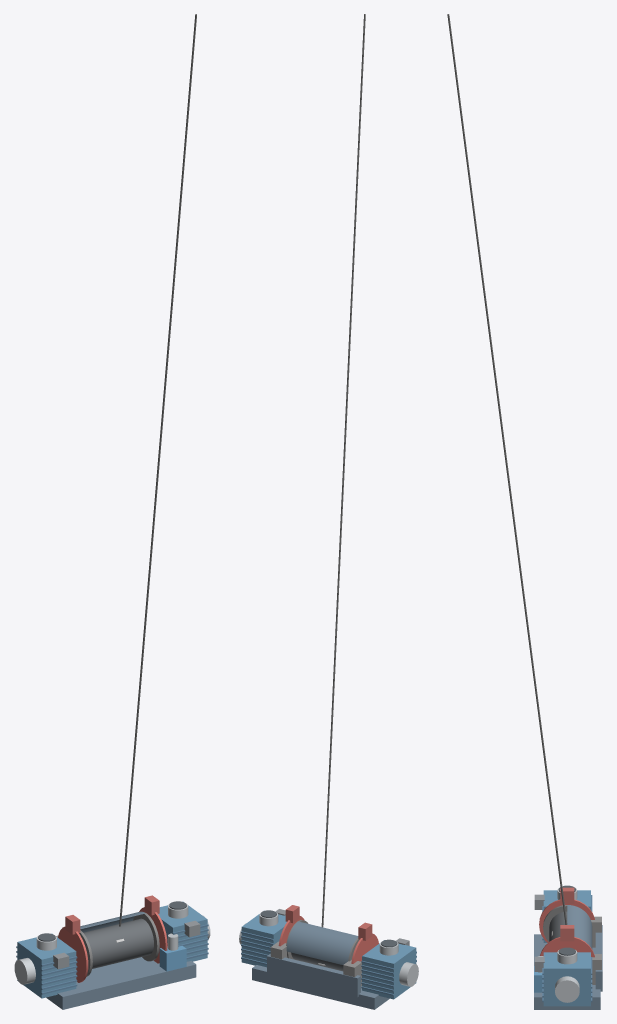
Rendered from drawworks.glb.
3 views of the same model, side by side, from view 1: azimuth 30°, elevation 25°; view 2: azimuth 150°, elevation 25°; view 3: azimuth 270°, elevation 25° (orthographic). The views are drawn at different scales.
Parts seen in each view (by area): view 1: object 1, object 3, object 15, object 7, object 12, inst, object 5, object 25, object 8; view 2: object 15, object 14, object 16, object 7, object 1, object 12, inst; view 3: object 15, object 12, object 1, object 16, object 13, object 10, object 5, object 7.
Boxes of the visible parts, <box> form: object 1: <box>46,957,196,1009</box>; object 3: <box>83,918,153,968</box>; object 15: <box>119,14,196,926</box>; object 7: <box>17,933,76,998</box>; object 12: <box>158,901,207,961</box>; inst: <box>16,924,208,994</box>; object 5: <box>58,926,88,982</box>; object 25: <box>159,945,186,971</box>; object 8: <box>14,958,35,984</box>; object 15: <box>321,14,365,927</box>; object 14: <box>267,954,360,997</box>; object 16: <box>286,921,358,964</box>; object 7: <box>362,940,416,999</box>; object 1: <box>252,965,389,1009</box>; object 12: <box>241,910,286,967</box>; inst: <box>241,931,416,995</box>; object 15: <box>447,14,567,924</box>; object 12: <box>543,952,590,1006</box>; object 1: <box>534,934,600,1009</box>; object 16: <box>567,905,592,949</box>; object 13: <box>555,976,579,1002</box>; object 10: <box>540,937,594,957</box>; object 5: <box>539,899,594,942</box>; object 7: <box>543,890,590,942</box>.
Bounding box in the file's own units: 7.4 × 38.85 × 5.61.
